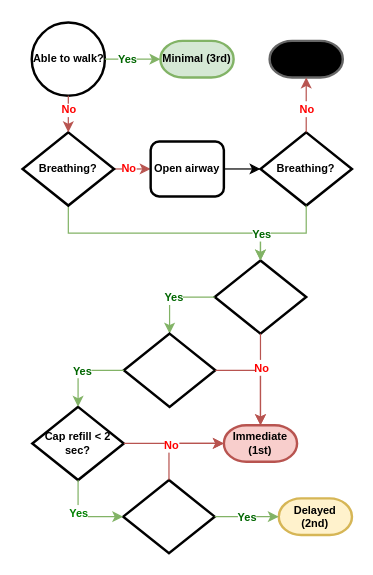
Image size: 373x575. Some labels were removed from this diagram. The centre of each missing label's shape, as x and y in pixels:
< 30 breaths/min?: pixel 260 296
Able to follow commands?: pixel 168 516
Deceased: pixel 305 58
Radial pulse?: pixel 169 369
